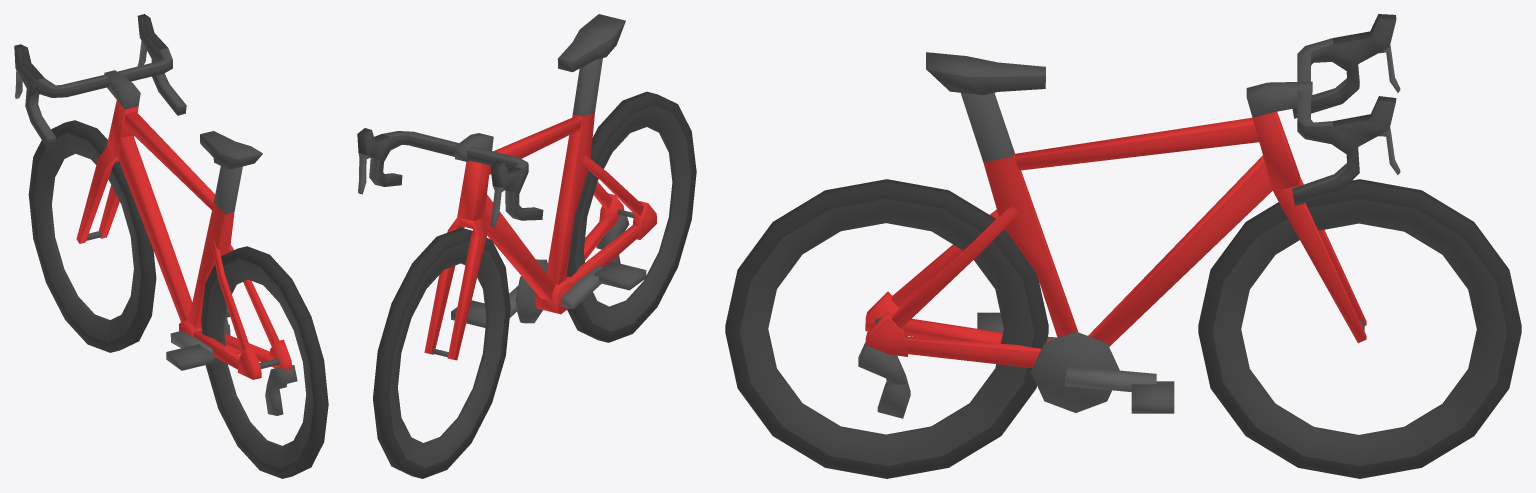
Rendered from bicycle2.glb.
The picture shows the model from 3 angles, left to right: view 1: azimuth 30°, elevation 25°; view 2: azimuth 150°, elevation 25°; view 3: azimuth 270°, elevation 25°; orthographic projection. The views are drawn at different scales.
Parts seen in each view (by area): view 1: Object_2; view 2: Object_2; view 3: Object_2.
Boxes of the visible parts, x1,y1,x2,y2 form: Object_2: (14, 14, 328, 478); Object_2: (357, 14, 696, 478); Object_2: (725, 14, 1521, 478).
Bounding box in the file's own units: 0.4661 × 0.9741 × 1.68.
Materials: 1 (1 with a texture image).
